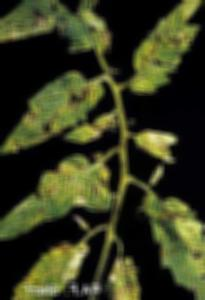Tomato Septoria leaf spot: (0, 154, 116, 245), (4, 74, 98, 156), (140, 184, 204, 300), (0, 1, 106, 63), (130, 1, 198, 89), (6, 239, 87, 300), (131, 128, 180, 162), (70, 114, 113, 149)
